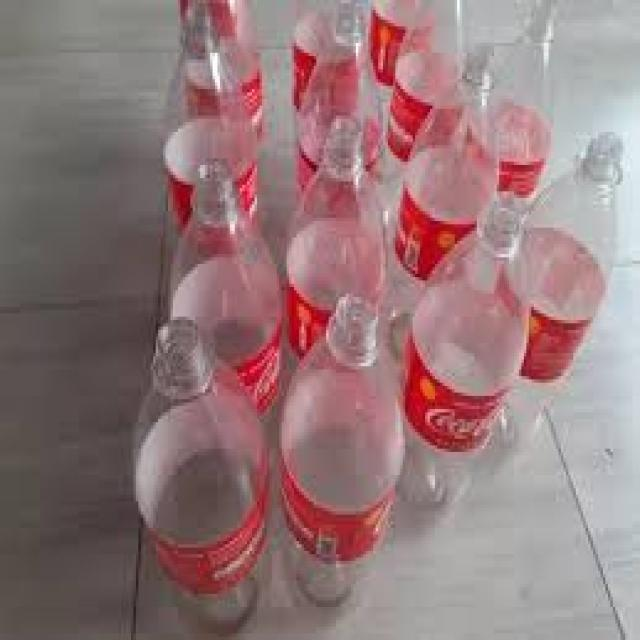bottom: (171, 574, 259, 636), (293, 546, 356, 606), (497, 380, 546, 451), (399, 457, 461, 509)
label: (171, 257, 281, 414), (156, 486, 269, 594), (404, 335, 506, 451), (281, 461, 395, 561), (395, 187, 475, 279), (521, 309, 591, 380), (387, 80, 433, 162), (286, 284, 331, 357), (370, 10, 405, 85), (236, 50, 264, 123), (498, 159, 545, 197), (166, 170, 194, 232), (293, 43, 316, 108), (236, 160, 257, 216), (296, 145, 317, 193)
neck: (136, 320, 267, 493), (281, 297, 401, 451), (414, 197, 529, 332), (171, 159, 274, 293), (530, 132, 624, 278), (291, 115, 381, 238), (163, 1, 234, 123), (437, 46, 497, 163), (504, 0, 553, 118), (312, 5, 366, 106), (394, 3, 482, 51)
